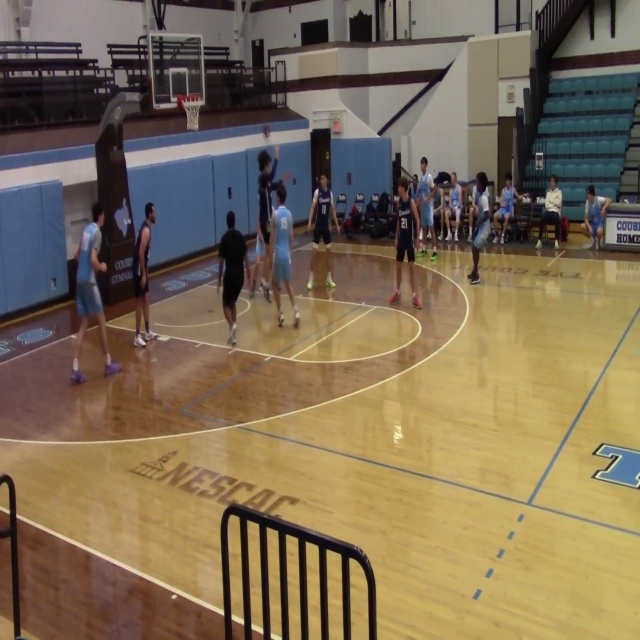Basketball: (338, 194, 346, 202)
